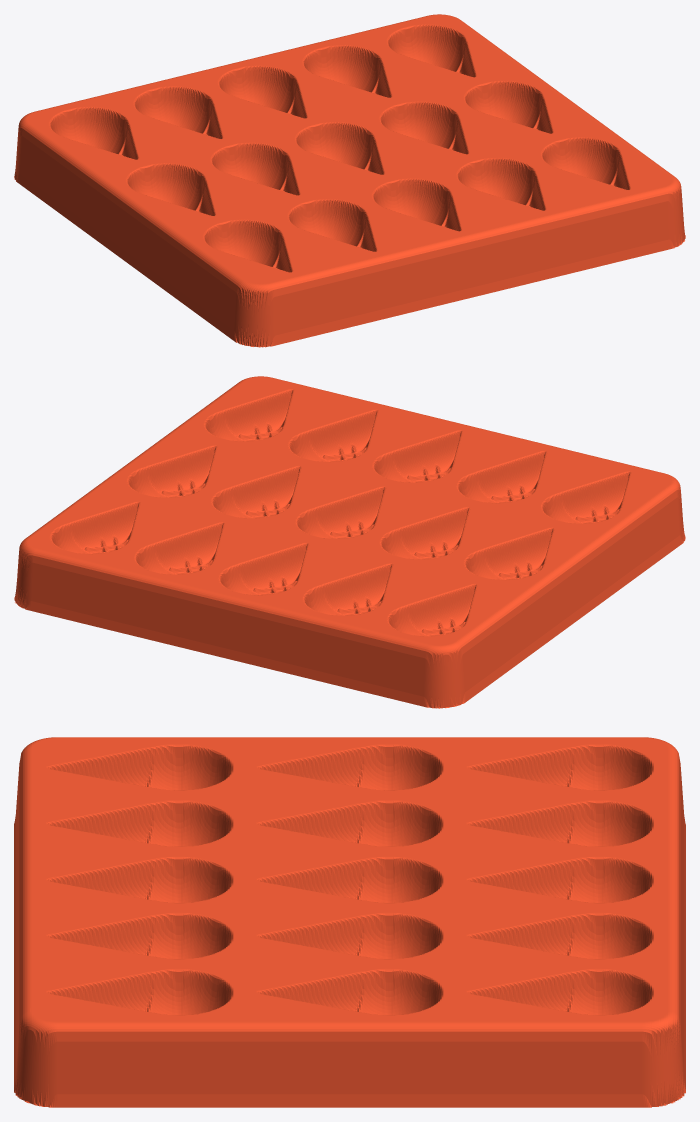
Rendered from mold.glb.
3 renders of one model, top to bottom at view 1: azimuth 30°, elevation 25°; view 2: azimuth 150°, elevation 25°; view 3: azimuth 270°, elevation 25°, orthographic. The views are drawn at different scales.
Parts seen in each view (by area): view 1: geometry_0; view 2: geometry_0; view 3: geometry_0.
Boxes of the visible parts, x1=… form: geometry_0: x1=14, y1=14, x2=685, y2=347; geometry_0: x1=14, y1=376, x2=685, y2=708; geometry_0: x1=14, y1=737, x2=685, y2=1107.
Bounding box in the file's own units: 0.1486 × 0.0182 × 0.1415.
